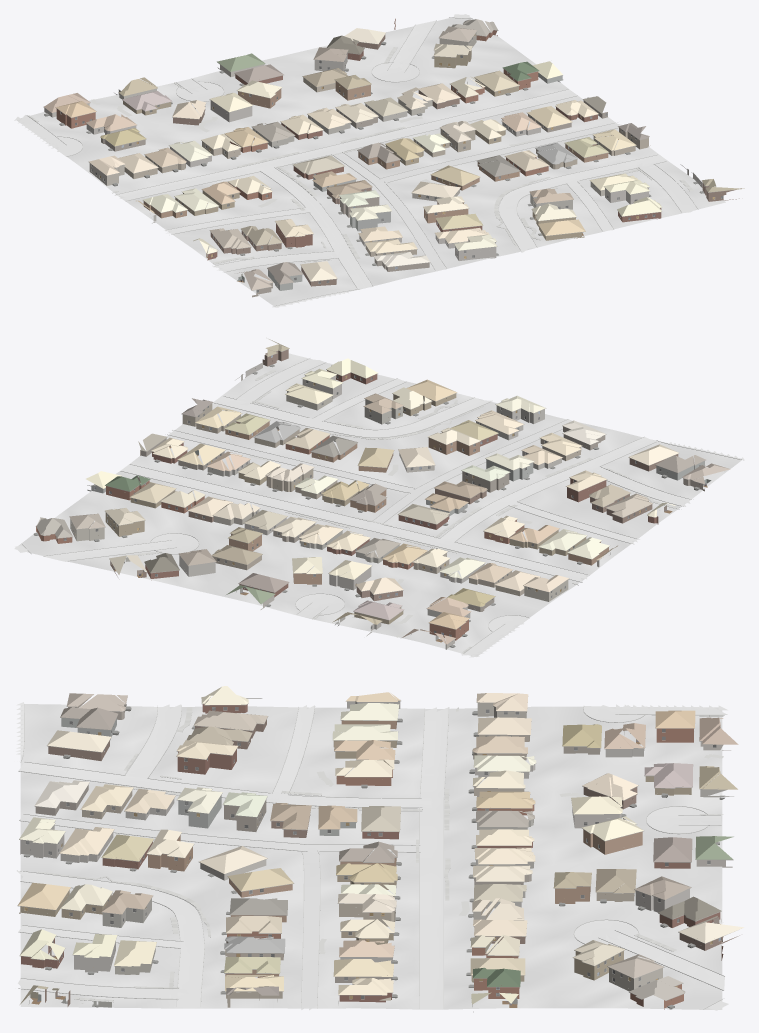
The picture shows the model from 3 angles, top to bottom: view 1: azimuth 30°, elevation 25°; view 2: azimuth 150°, elevation 25°; view 3: azimuth 270°, elevation 25°; orthographic projection. The views are drawn at different scales.
Visible parts, largest first — view 1: ground, roof, concrete, wall, detail, curb, wall_stucco, wall_stone, asphalt, walk, glass; view 2: ground, roof, concrete, wall, detail, curb, wall_stucco, wall_stone, asphalt, walk, glass; view 3: ground, roof, concrete, wall, detail, curb, wall_stucco, wall_stone, asphalt, walk, glass.
Boxes of the visible parts, left/top/right/bottom form: ground: left=17, top=14, right=725, bottom=306; roof: left=43, top=19, right=744, bottom=290; concrete: left=14, top=14, right=696, bottom=307; wall: left=56, top=18, right=741, bottom=297; detail: left=43, top=24, right=738, bottom=292; curb: left=27, top=17, right=698, bottom=306; wall_stucco: left=44, top=32, right=604, bottom=290; wall_stone: left=86, top=52, right=702, bottom=260; asphalt: left=257, top=165, right=372, bottom=288; walk: left=28, top=47, right=693, bottom=264; glass: left=60, top=38, right=723, bottom=292; ground: left=14, top=353, right=741, bottom=655; roof: left=36, top=339, right=730, bottom=644; concrete: left=15, top=359, right=744, bottom=657; wall: left=36, top=349, right=704, bottom=640; detail: left=34, top=348, right=724, bottom=647; curb: left=21, top=358, right=741, bottom=654; wall_stucco: left=70, top=391, right=704, bottom=649; wall_stone: left=179, top=362, right=599, bottom=636; asphalt: left=436, top=437, right=655, bottom=545; walk: left=122, top=369, right=679, bottom=653; glass: left=63, top=375, right=700, bottom=636; ground: left=20, top=704, right=722, bottom=1009; roof: left=17, top=686, right=744, bottom=1004; concrete: left=16, top=702, right=728, bottom=1010; wall: left=19, top=704, right=739, bottom=1009; detail: left=17, top=697, right=734, bottom=1009; curb: left=17, top=704, right=727, bottom=1009; wall_stucco: left=61, top=701, right=732, bottom=1012; wall_stone: left=20, top=701, right=733, bottom=972; asphalt: left=19, top=762, right=431, bottom=807; walk: left=37, top=707, right=723, bottom=1002; glass: left=26, top=707, right=716, bottom=998.
Bounding box in the file's own units: 263 × 12.15 × 260.
